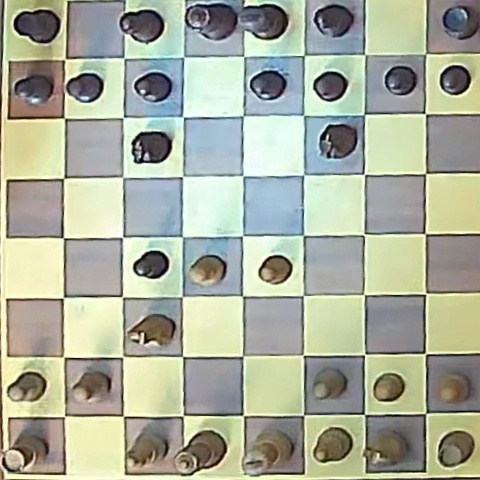black-bishop: (120, 9, 165, 44), (313, 4, 353, 38)
black-king: (239, 3, 286, 40)
black-knight: (318, 124, 357, 158), (131, 131, 171, 163)
black-pawn: (14, 75, 54, 105), (66, 71, 104, 102), (133, 72, 172, 102), (133, 250, 170, 280), (250, 70, 286, 100), (313, 71, 347, 101), (439, 65, 471, 95), (384, 66, 417, 95)
black-queen: (185, 3, 237, 41)
black-rook: (14, 9, 60, 44), (441, 5, 479, 39)
white-bishop: (127, 431, 168, 468), (313, 428, 352, 463)
white-king: (243, 428, 293, 475)
white-knight: (127, 314, 175, 348), (363, 430, 406, 467)
white-pawn: (6, 372, 46, 403), (71, 372, 109, 403), (189, 256, 225, 286), (313, 368, 346, 399), (258, 255, 292, 285), (437, 373, 468, 403), (373, 373, 404, 402)
white-queen: (172, 430, 226, 474)
white-rook: (1, 433, 47, 472), (437, 431, 474, 467)
